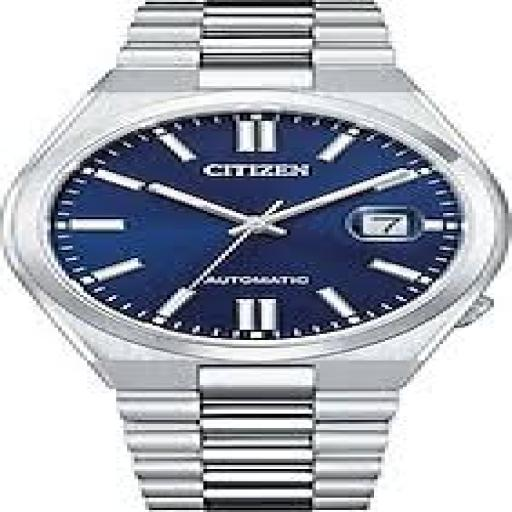KolSaati: (4, 2, 508, 512)
